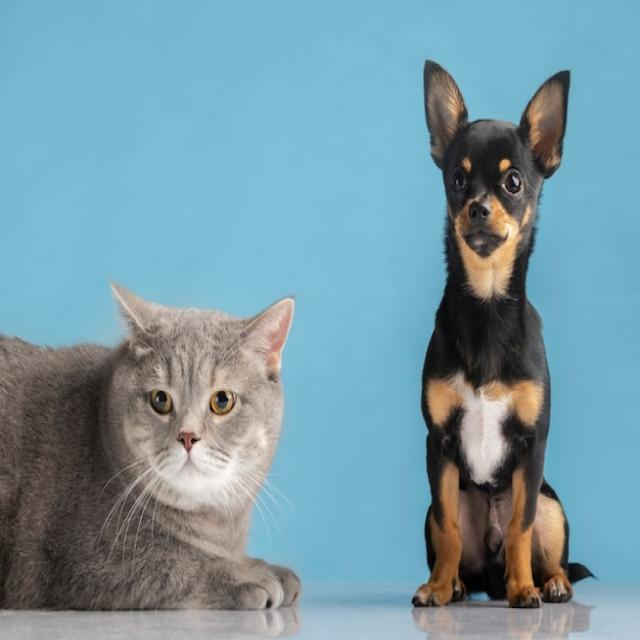Dog: (414, 59, 599, 612)
